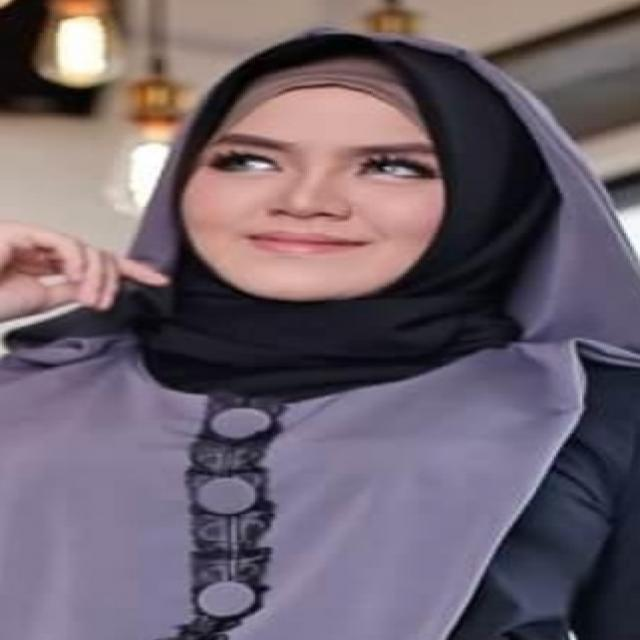head: (174, 23, 513, 309)
